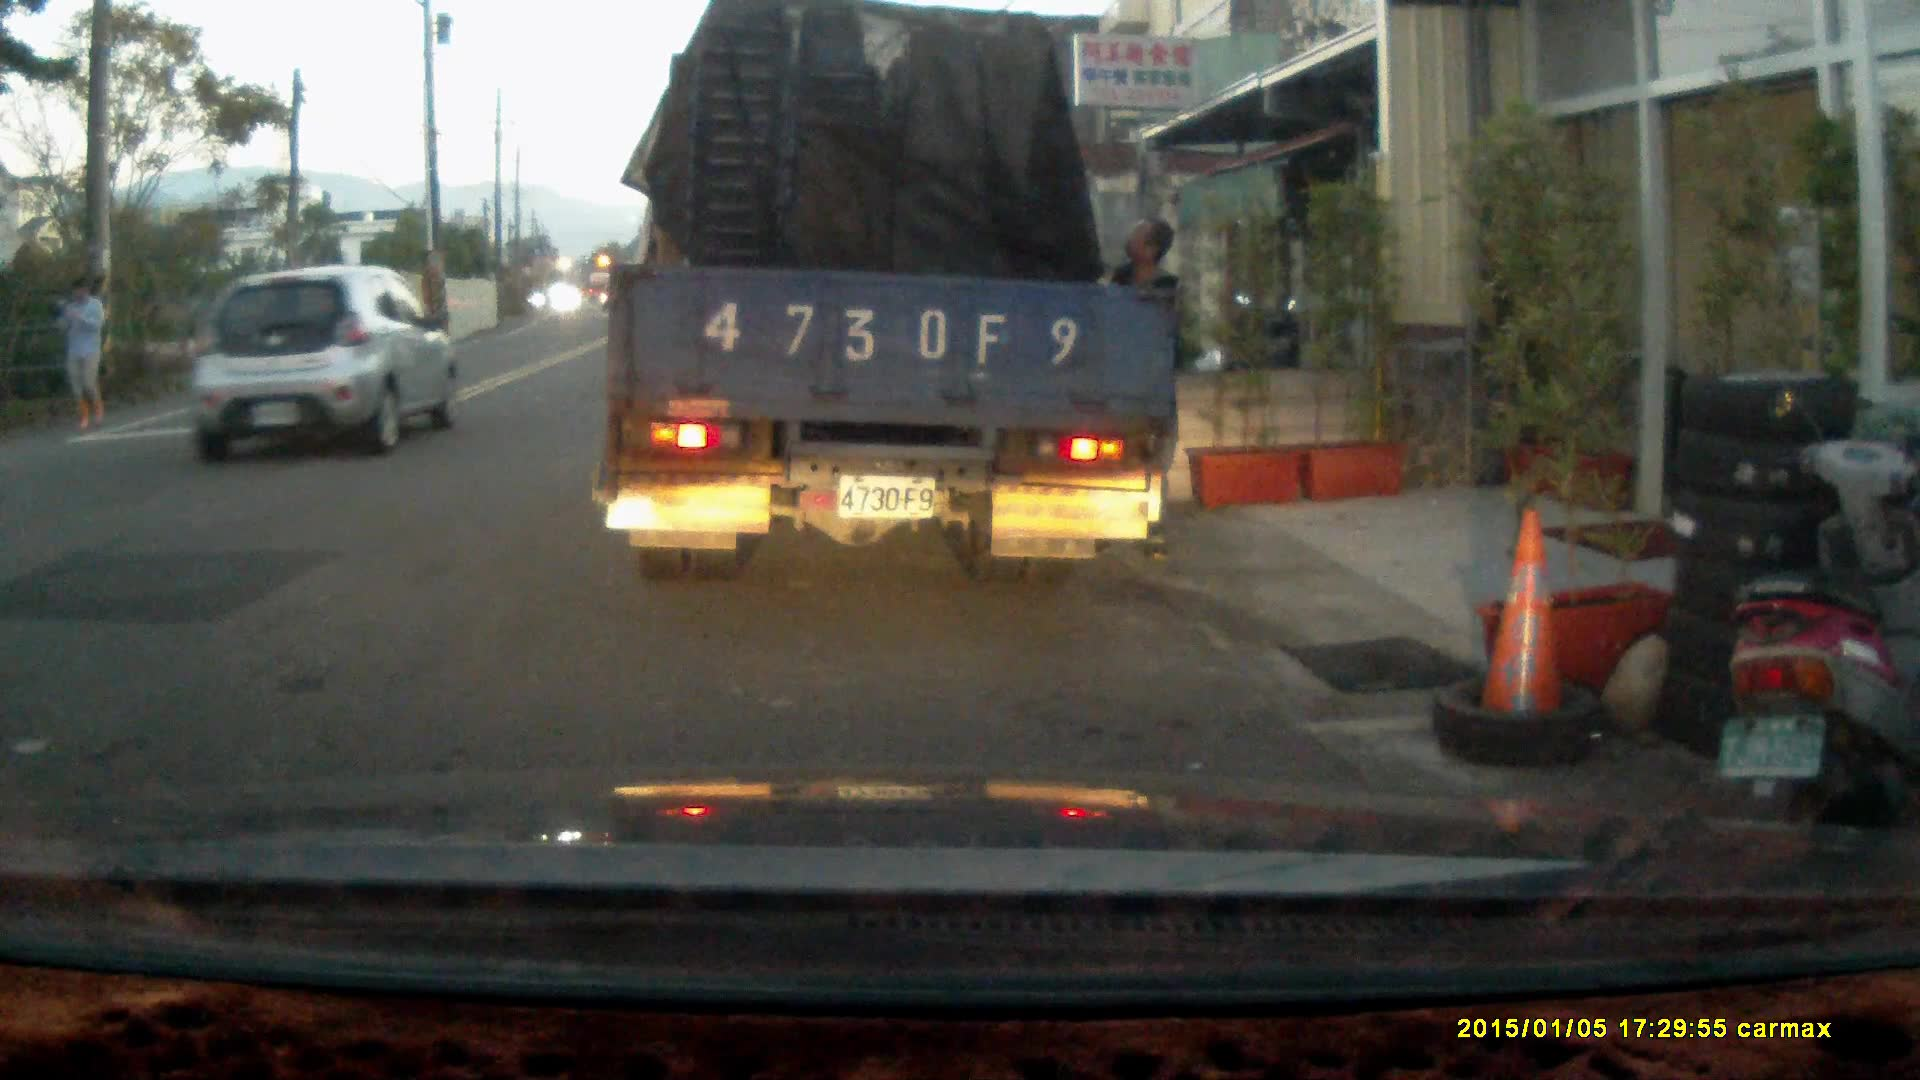pedestrian: (1085, 212, 1187, 566), (46, 275, 112, 425)
vehicle: (602, 23, 1186, 572), (186, 264, 458, 461)
